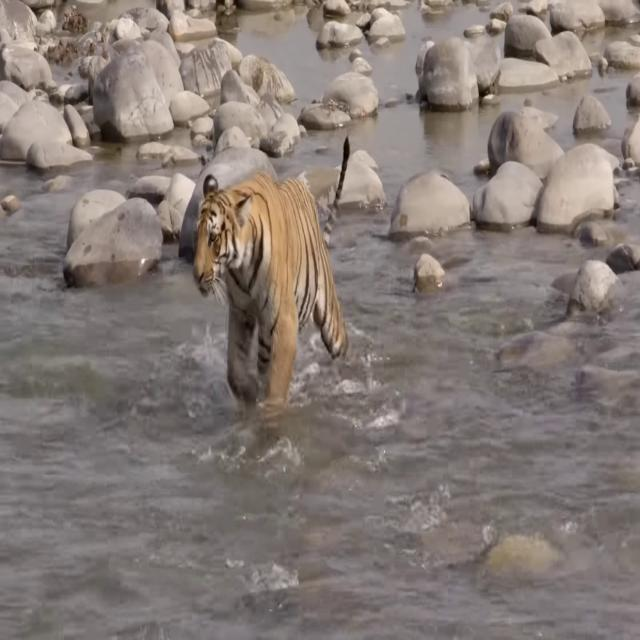tiger: (192, 132, 352, 406)
